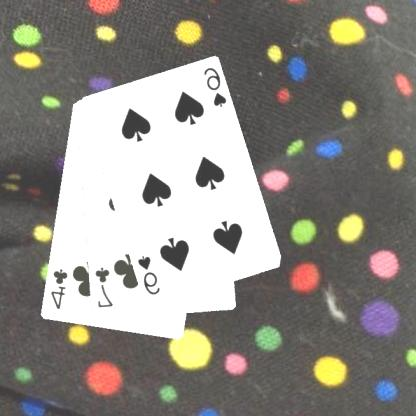4C: (49, 266, 71, 311)
6S: (136, 253, 164, 297), (202, 65, 230, 109)
7C: (93, 264, 116, 310)
